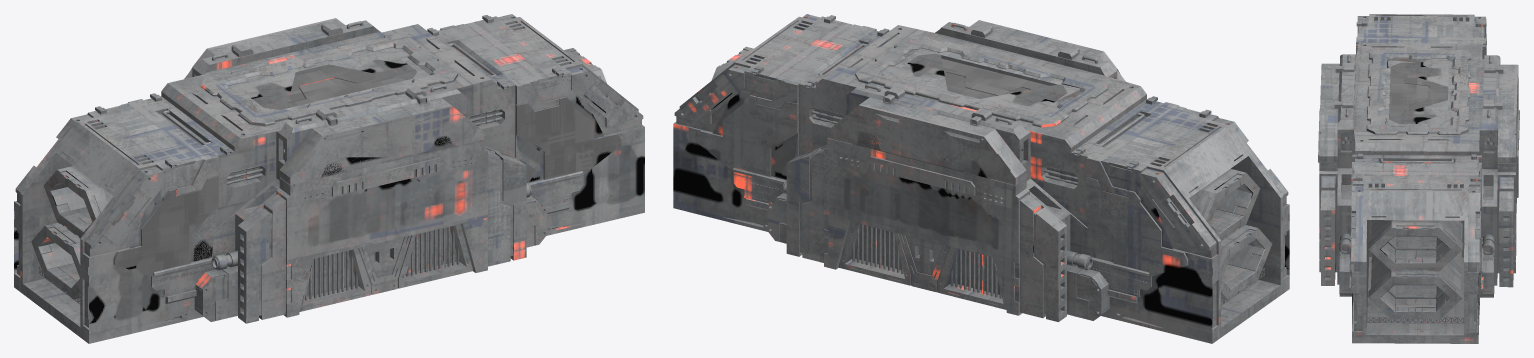
3 views of the same model, side by side, from view 1: azimuth 30°, elevation 25°; view 2: azimuth 150°, elevation 25°; view 3: azimuth 270°, elevation 25° (orthographic). The views are drawn at different scales.
Visible parts, largest first — view 1: 房子18_Baked; view 2: 房子18_Baked; view 3: 房子18_Baked.
Part boxes in pixels (x1=…): 房子18_Baked: x1=14, y1=14, x2=644, y2=343; 房子18_Baked: x1=673, y1=14, x2=1289, y2=343; 房子18_Baked: x1=1318, y1=14, x2=1519, y2=343.
Size of the model in its own units: 973 by 304 by 372.
